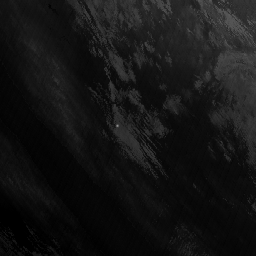Target: (115, 123, 120, 128)
